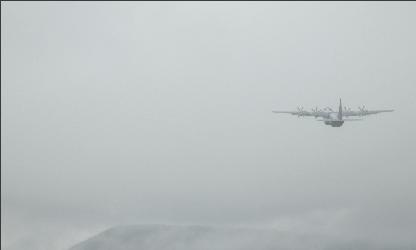Be200: (270, 98, 392, 126)
